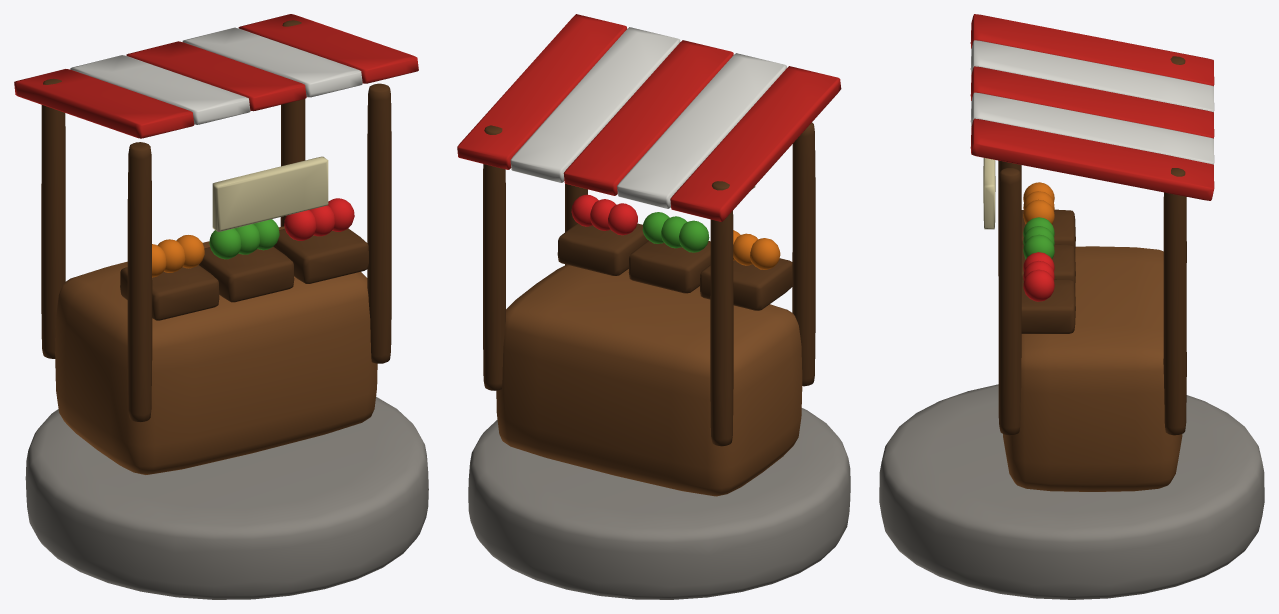
File: Hofladen.fbx
3 renders of one model, left to right at view 1: azimuth 30°, elevation 25°; view 2: azimuth 150°, elevation 25°; view 3: azimuth 270°, elevation 25°, orthographic. The views are drawn at different scales.
Parts seen in each view (by area): view 1: Hofladen; view 2: Hofladen; view 3: Hofladen.
Boxes of the visible parts, x1,y1,x2,y2 form: Hofladen: (14,14,428,599); Hofladen: (457,14,850,599); Hofladen: (879,14,1264,599).
Bounding box in the file's own units: 0.9339 × 1.2 × 0.9339.
